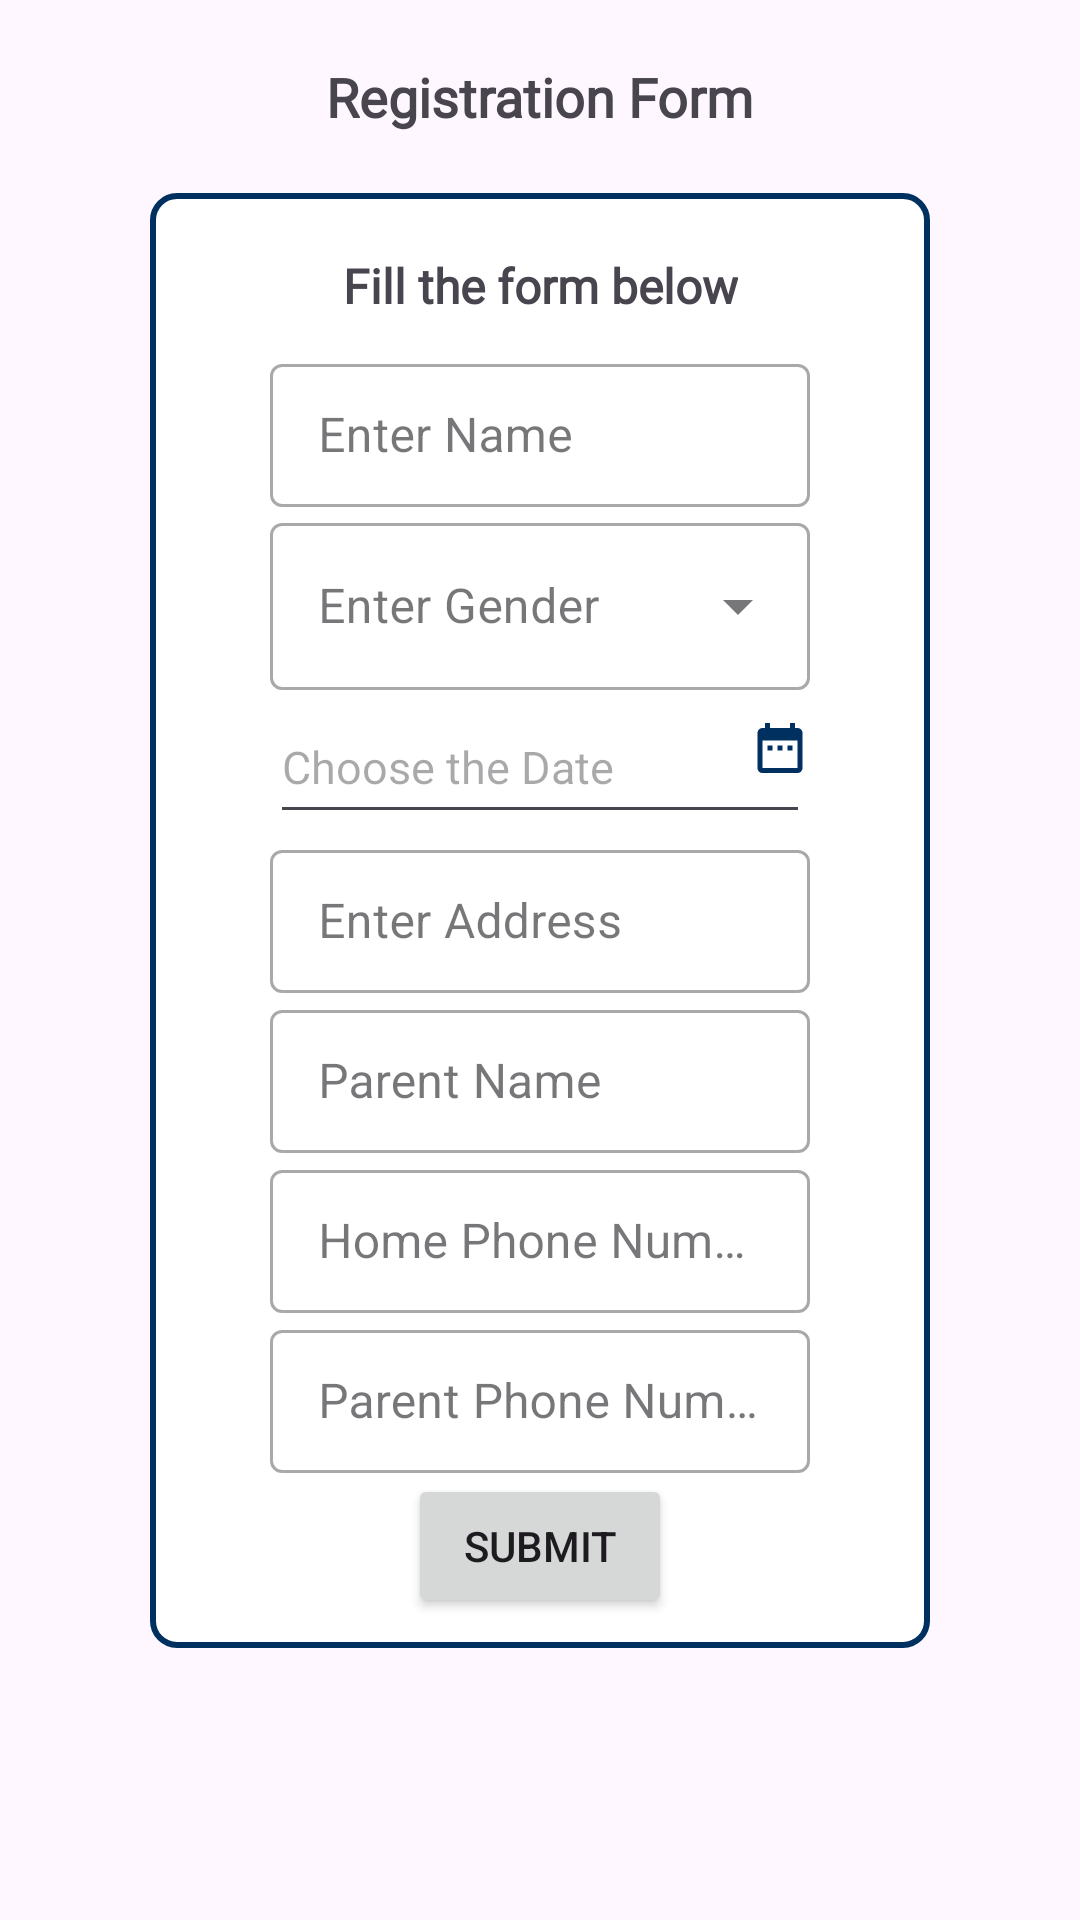

Icons on this 1080x1920 Android screen, each with the point to tap as point (x, y):
daterange: point (780, 748)
